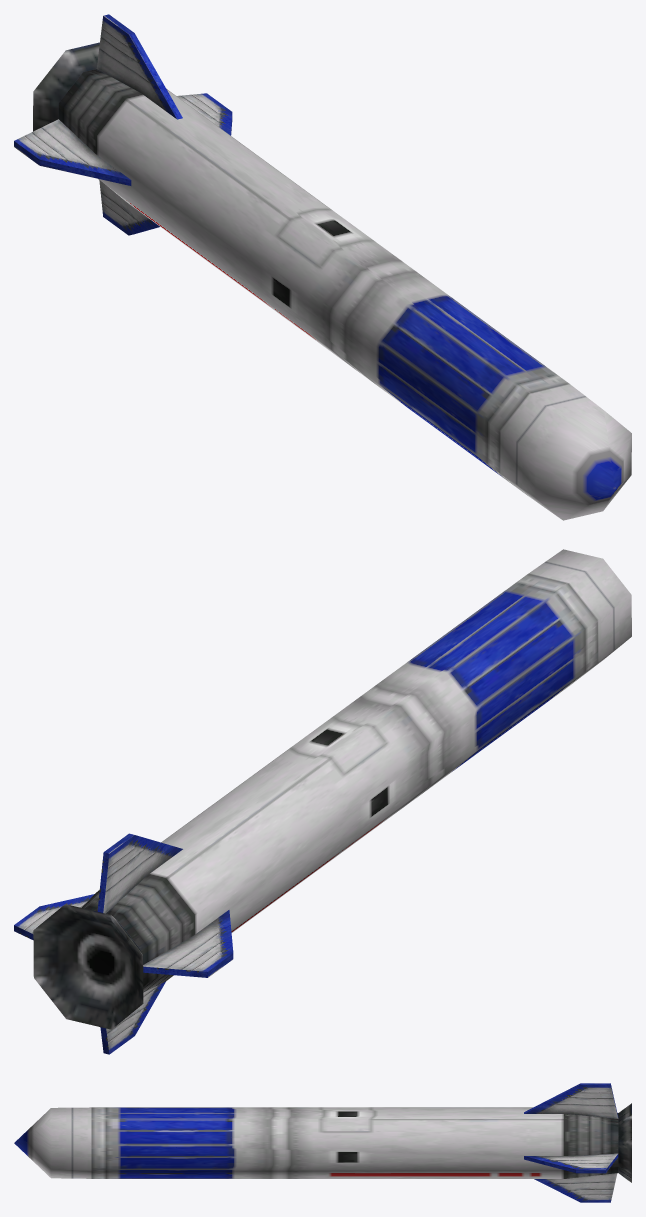
The model's file is wpn_missile_space_s03_l1.fbx.
3 views of the same model, one above another, from view 1: azimuth 30°, elevation 25°; view 2: azimuth 150°, elevation 25°; view 3: azimuth 270°, elevation 25° (orthographic). The views are drawn at different scales.
Parts seen in each view (by area): view 1: mesh_node; view 2: mesh_node; view 3: mesh_node.
Part boxes in pixels (x1=…): mesh_node: x1=14, y1=14, x2=631, y2=520; mesh_node: x1=14, y1=549, x2=631, y2=1054; mesh_node: x1=14, y1=1083, x2=631, y2=1202.
Size of the model in its own units: 0.4232 by 0.4205 by 2.
Materials: 1 (1 with a texture image).
